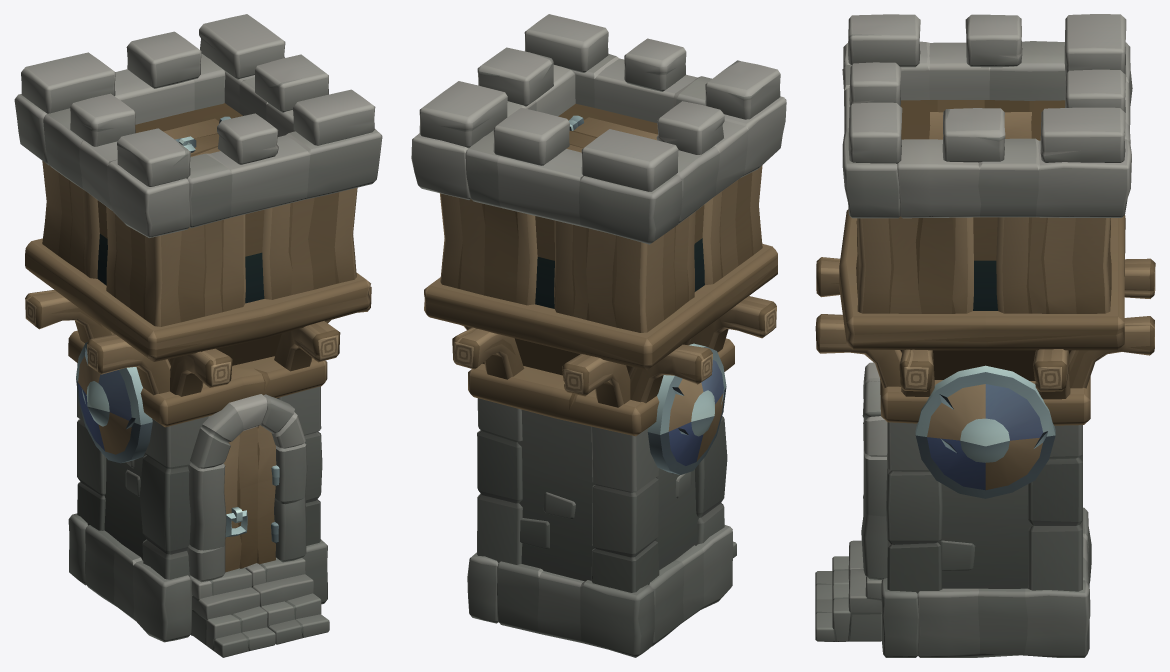
The model's file is tower_big.fbx.
The picture shows the model from 3 angles, left to right: view 1: azimuth 30°, elevation 25°; view 2: azimuth 150°, elevation 25°; view 3: azimuth 270°, elevation 25°; orthographic projection. The views are drawn at different scales.
Parts seen in each view (by area): view 1: tower_big; view 2: tower_big; view 3: tower_big.
Part boxes in pixels (<box>): tower_big: <box>14,14,382,657</box>; tower_big: <box>411,14,786,657</box>; tower_big: <box>815,14,1155,657</box>.
Bounding box in the file's own units: 501 × 889 × 502.
